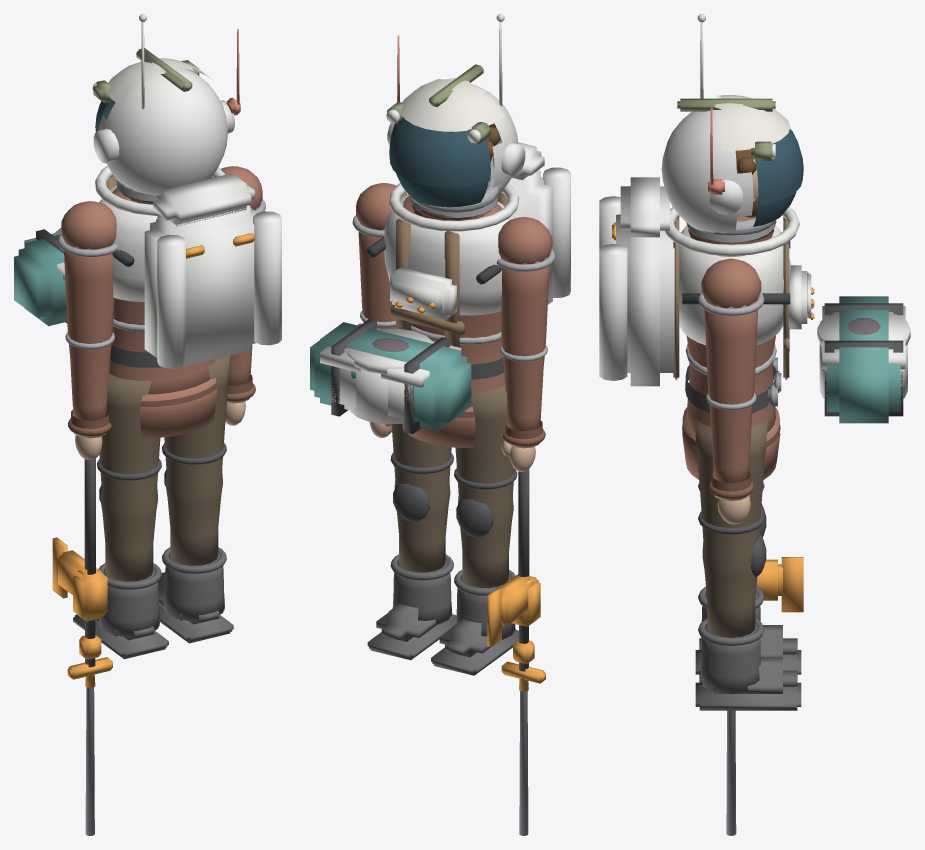
Rendered from villager.glb.
The picture shows the model from 3 angles, left to right: view 1: azimuth 30°, elevation 25°; view 2: azimuth 150°, elevation 25°; view 3: azimuth 270°, elevation 25°; orthographic projection. The views are drawn at different scales.
Visible parts, largest first — view 1: Satchel, Helmet, LegR, ArmR, LegL, ShoeL, ShoeR, CarryLog, Torso, Hem, Chest, HatStraw (+13 smaller); view 2: ArmR, LegR, CarryLog, Chest, ShoeL, LegL, Hood, Satchel, ShoeR, Helmet, HatStraw, ArmL (+23 smaller); view 3: Satchel, ArmL, Helmet, LegL, ShoeL, CarryLog, Chest, HatStraw, Torso, Hood, AxeHead, ShoeR (+15 smaller).
Part boxes in pixels (x1,y1,x2,y2): Satchel: [144, 173, 281, 369]; Helmet: [93, 66, 234, 215]; LegR: [99, 373, 160, 581]; ArmR: [61, 201, 116, 420]; LegL: [164, 355, 230, 565]; ShoeL: [158, 547, 233, 643]; ShoeR: [73, 563, 168, 659]; CarryLog: [14, 234, 66, 326]; Torso: [109, 188, 216, 394]; Hem: [139, 378, 217, 437]; Chest: [99, 185, 157, 301]; HatStraw: [107, 14, 211, 109]; ArmR: [498, 217, 552, 430]; LegR: [455, 385, 514, 587]; CarryLog: [310, 322, 471, 431]; Chest: [383, 194, 515, 315]; ShoeL: [367, 554, 456, 660]; LegL: [391, 423, 451, 572]; Hood: [389, 117, 490, 187]; Satchel: [501, 142, 570, 304]; ShoeR: [431, 570, 518, 675]; Helmet: [387, 84, 525, 231]; HatStraw: [401, 14, 505, 131]; ArmL: [356, 183, 407, 328]; Satchel: [599, 177, 674, 386]; ArmL: [701, 258, 761, 482]; Helmet: [661, 109, 799, 255]; LegL: [695, 419, 767, 637]; ShoeL: [695, 618, 801, 710]; CarryLog: [827, 296, 900, 423]; Chest: [678, 225, 790, 345]; HatStraw: [697, 14, 790, 150]; Torso: [686, 216, 775, 432]; Hood: [756, 128, 803, 205]; AxeHead: [756, 557, 803, 612]; ShoeR: [695, 586, 801, 674].
Bounding box in the file's own units: 0.48 × 1.88 × 0.6335.
